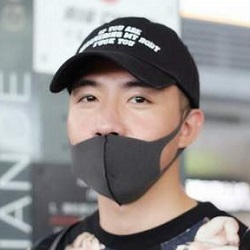mask: (61, 108, 171, 207)
